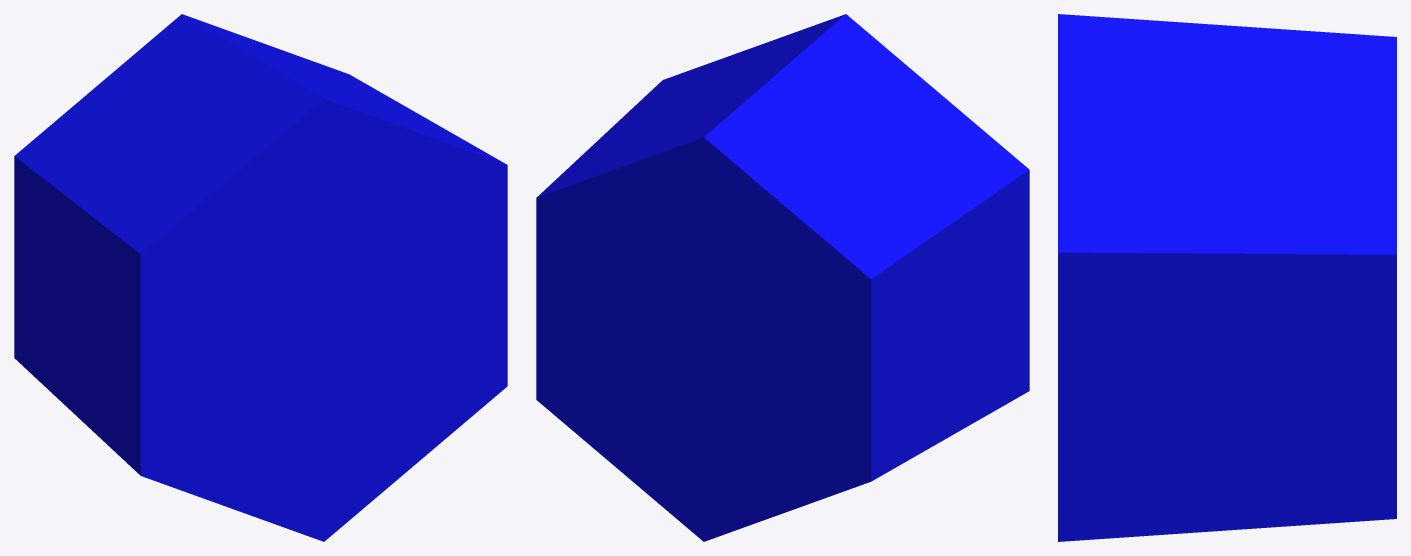
Rendered from MayonnaiseJarLabel.obj.
The picture shows the model from 3 angles, left to right: view 1: azimuth 30°, elevation 25°; view 2: azimuth 150°, elevation 25°; view 3: azimuth 270°, elevation 25°; orthographic projection. The views are drawn at different scales.
Parts seen in each view (by area): view 1: glass.003; view 2: glass.003; view 3: glass.003.
Part boxes in pixels (bbox=[...]): glass.003: bbox=[14, 14, 507, 541]; glass.003: bbox=[536, 14, 1029, 541]; glass.003: bbox=[1058, 14, 1396, 541].
Size of the model in its own units: 0.1197 by 0.1382 by 0.0804.
